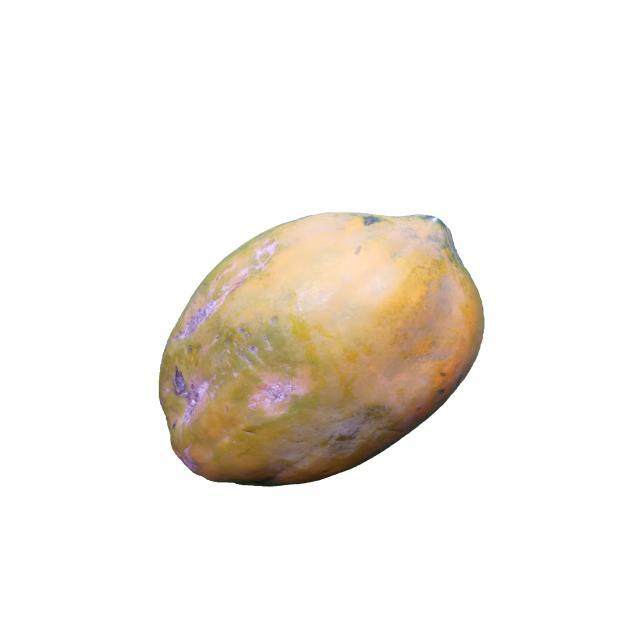Pepaya rippen: (150, 203, 501, 490)
